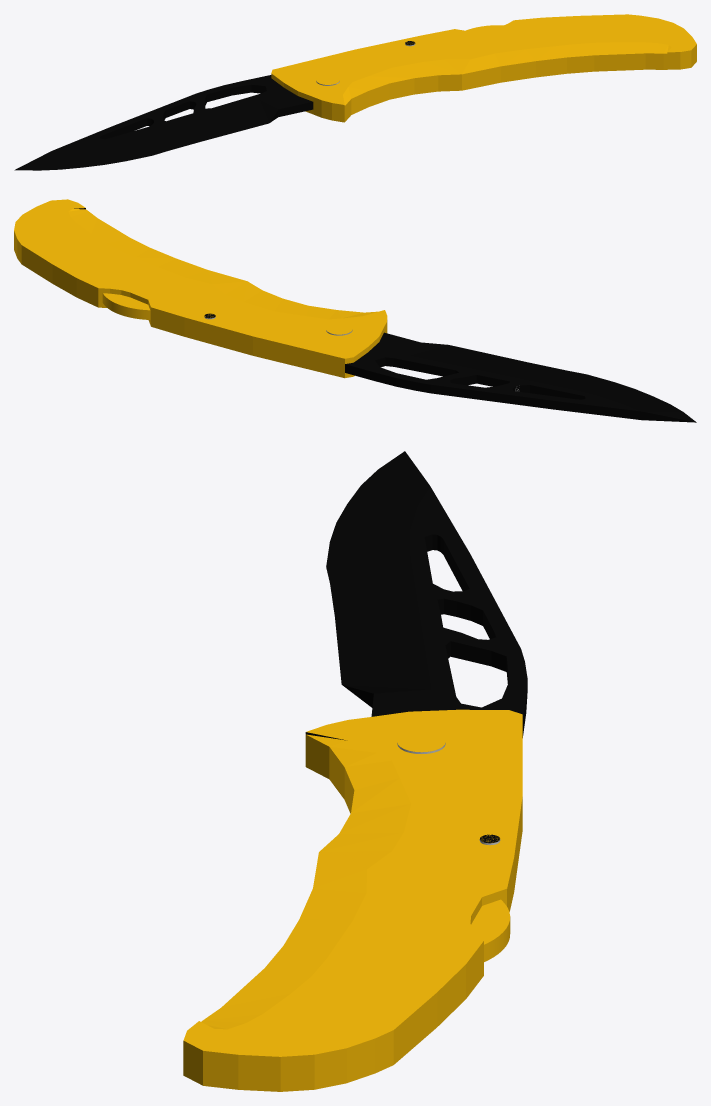
Rendered from knife_06_origin_gt_1.dae.
The picture shows the model from 3 angles, top to bottom: view 1: azimuth 30°, elevation 25°; view 2: azimuth 150°, elevation 25°; view 3: azimuth 270°, elevation 25°; orthographic projection. The views are drawn at different scales.
Parts seen in each view (by area): view 1: Pocket_Knife (×5); view 2: Pocket_Knife (×5); view 3: Pocket_Knife (×3).
Part boxes in pixels (left/top/right/bottom): Pocket_Knife (×5): left=14, top=14, right=696, bottom=170; Pocket_Knife (×5): left=14, top=199, right=696, bottom=422; Pocket_Knife (×3): left=183, top=451, right=527, bottom=1091.
Bounding box in the file's own units: 8.45 × 1.97 × 0.2463.
Materials: 6 (3 with a texture image).
